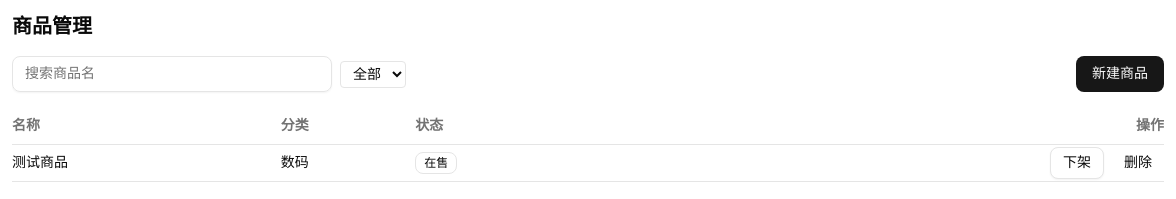
Test: AdminProductsPage › toggles product status
Click the button "下架" at (1077, 163), box [1050,147,1104,179]
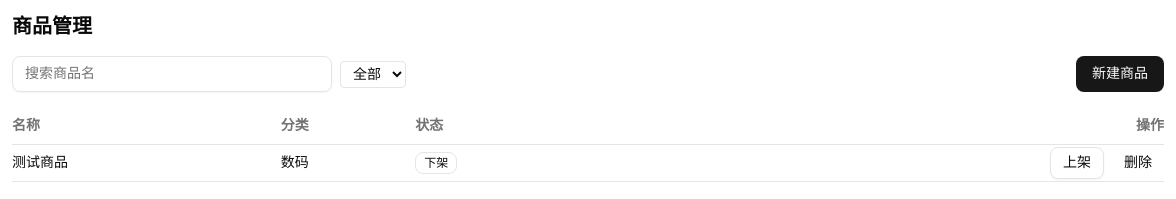
Check: the button "上架" is shown, box [1050,147,1104,179]
